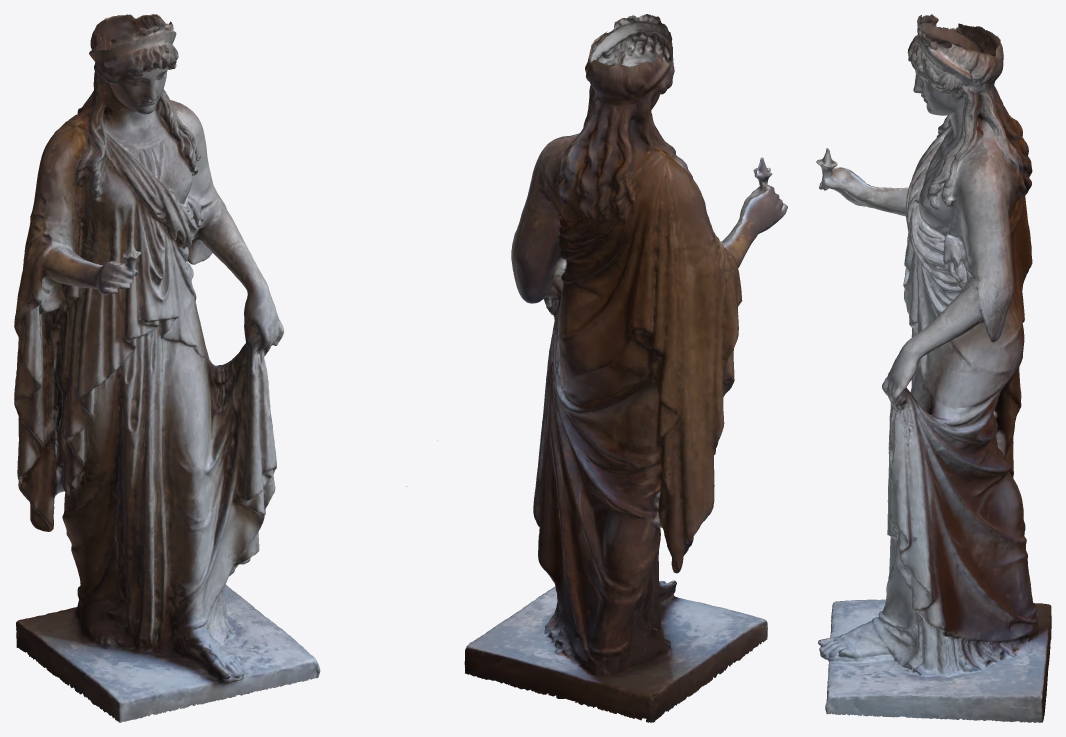
File: preview.glb
3 renders of one model, left to right at view 1: azimuth 30°, elevation 25°; view 2: azimuth 150°, elevation 25°; view 3: azimuth 270°, elevation 25°, orthographic.
Parts seen in each view (by area): view 1: Object_2; view 2: Object_2; view 3: Object_2.
Part boxes in pixels (box(x1,y1,x2,y2)): Object_2: box(14, 14, 406, 722); Object_2: box(437, 14, 787, 722); Object_2: box(816, 14, 1051, 722).
Bounding box in the file's own units: 14.46 × 25.94 × 8.61.
Materials: 1 (1 with a texture image).
